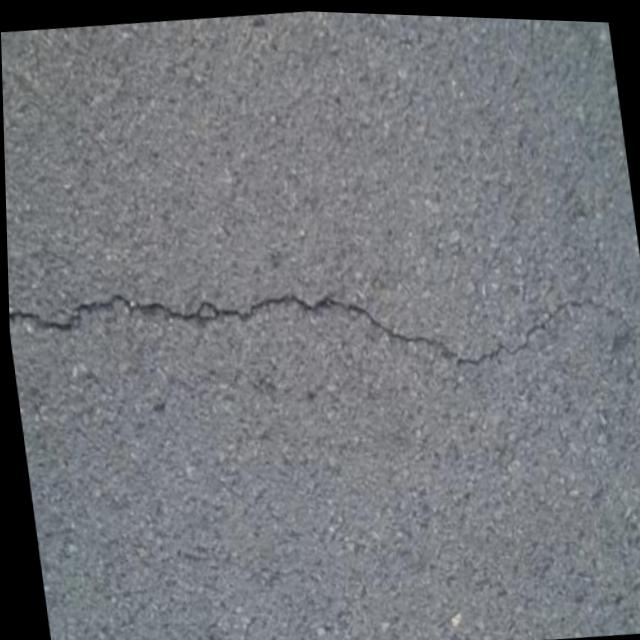Crack: (5, 220, 630, 422)
